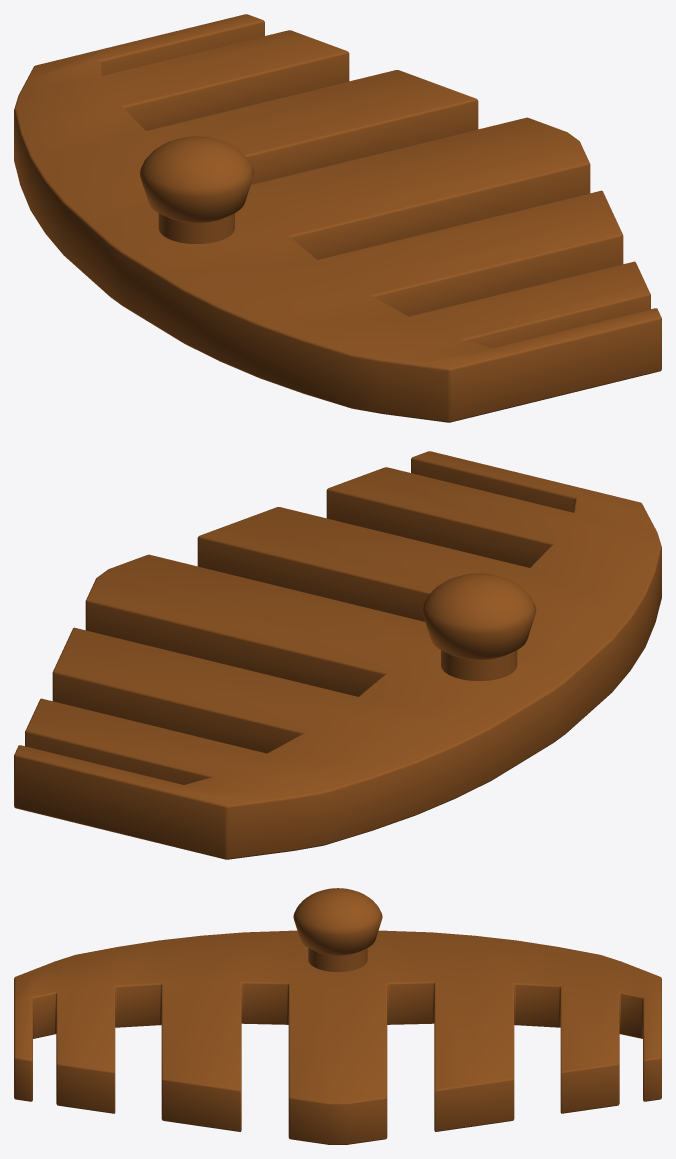
File: SM_Plate_Stamp.fbx
3 renders of one model, top to bottom at view 1: azimuth 30°, elevation 25°; view 2: azimuth 150°, elevation 25°; view 3: azimuth 270°, elevation 25°, orthographic. The views are drawn at different scales.
Parts seen in each view (by area): view 1: SM_Plate_Stamp; view 2: SM_Plate_Stamp; view 3: SM_Plate_Stamp.
Part boxes in pixels (<box>): SM_Plate_Stamp: <box>14,14,661,422</box>; SM_Plate_Stamp: <box>14,451,661,859</box>; SM_Plate_Stamp: <box>14,888,661,1144</box>.
Bounding box in the file's own units: 15.54 × 4.49 × 24.4.
